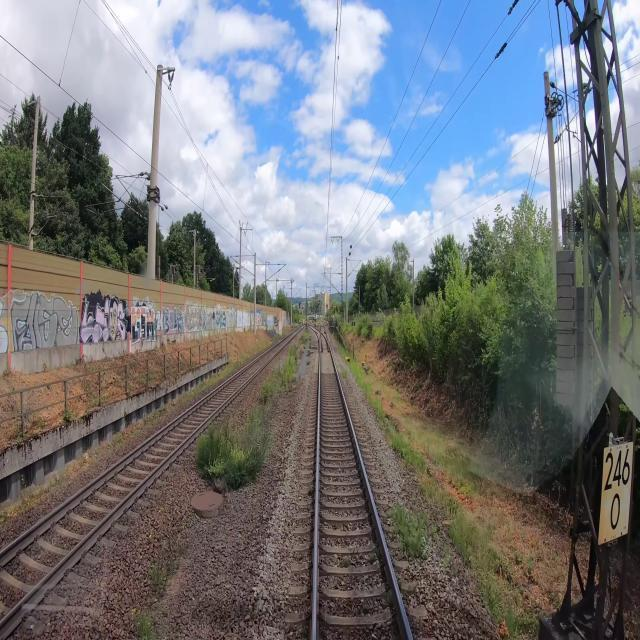Plant: (194, 385, 272, 491), (384, 495, 462, 568), (130, 593, 158, 639), (281, 358, 309, 395), (145, 559, 168, 592), (306, 324, 330, 351), (260, 367, 276, 402), (167, 541, 182, 570), (288, 343, 305, 358), (298, 332, 312, 350), (340, 366, 349, 378)
